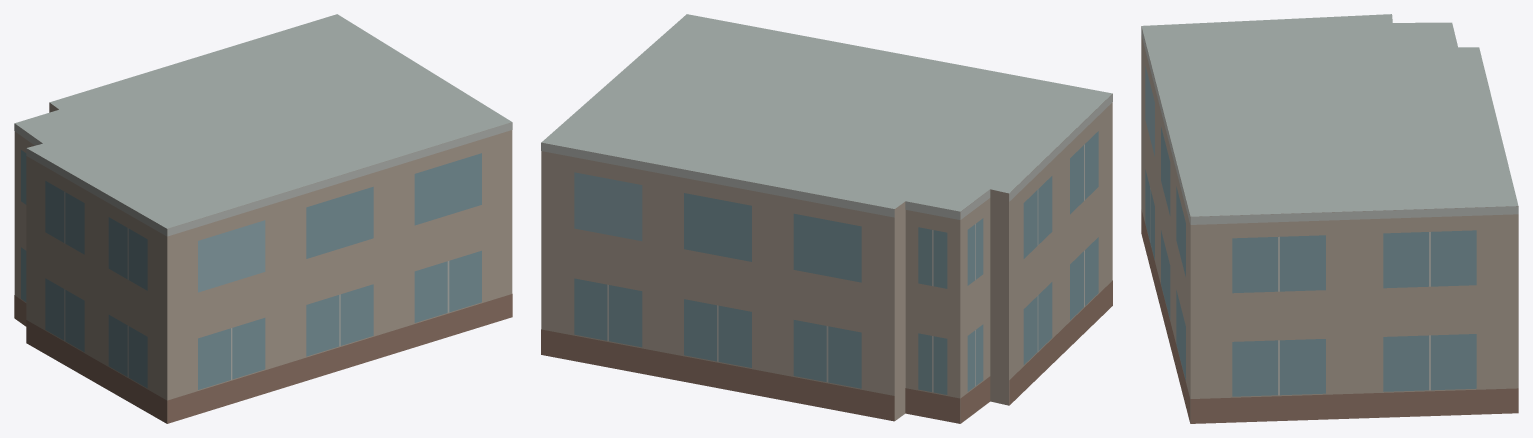
Rendered from survey-upis-32633891.glb.
The picture shows the model from 3 angles, left to right: view 1: azimuth 30°, elevation 25°; view 2: azimuth 150°, elevation 25°; view 3: azimuth 270°, elevation 25°; orthographic projection. The views are drawn at different scales.
Visible parts, largest first — view 1: survey-upis-32633891.tmp; view 2: survey-upis-32633891.tmp; view 3: survey-upis-32633891.tmp.
Part boxes in pixels (x1,y1,x2,y2): survey-upis-32633891.tmp: [14, 14, 512, 423]; survey-upis-32633891.tmp: [541, 14, 1112, 423]; survey-upis-32633891.tmp: [1141, 14, 1518, 423].
Bounding box in the file's own units: 12.81 × 6.1 × 10.08.
